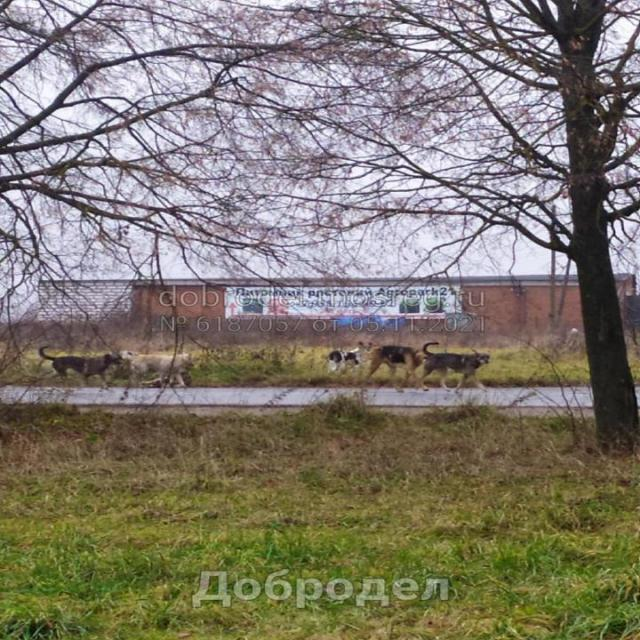dog: (414, 336, 491, 396), (37, 343, 121, 395), (121, 347, 199, 396), (353, 342, 431, 389), (313, 340, 370, 374)
